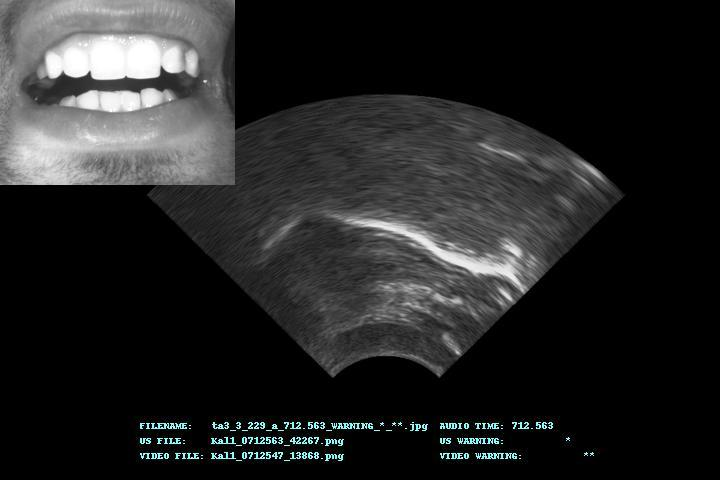-a-: (150, 97, 622, 377)
